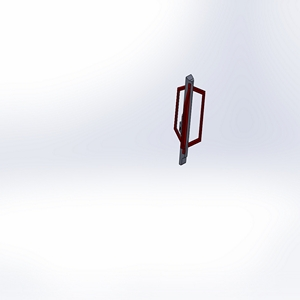submarine: (160, 70, 216, 176)
